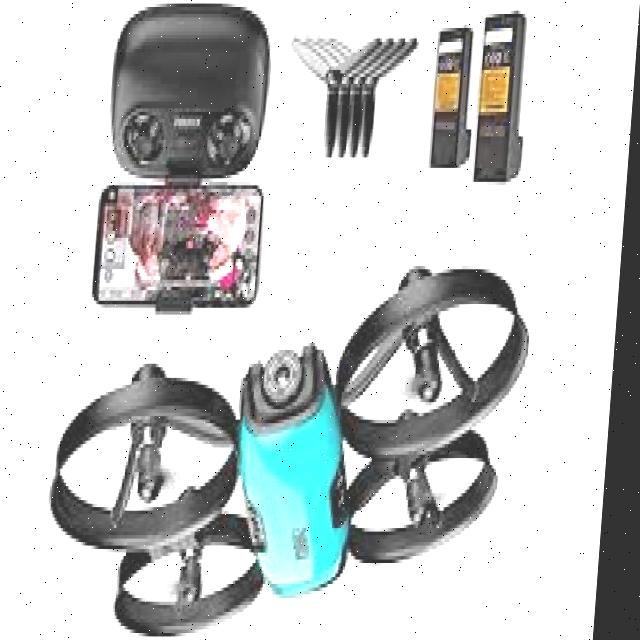drone: (33, 248, 561, 640)
